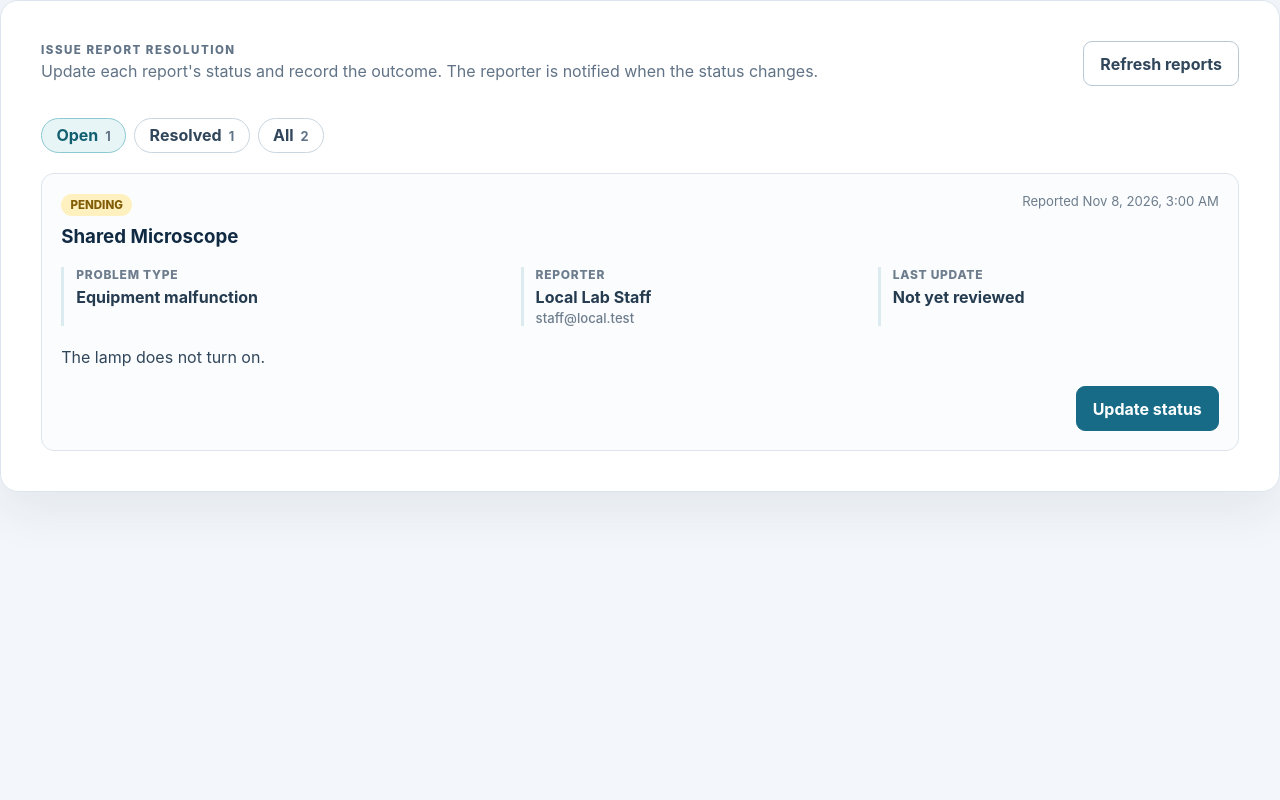
Test: IssueReportReview › resolves a report with a note and tells the administrator the reporter was notified
Click the button with aria-label "update shared microscope report" at (1147, 409), box [1076,386,1219,431]
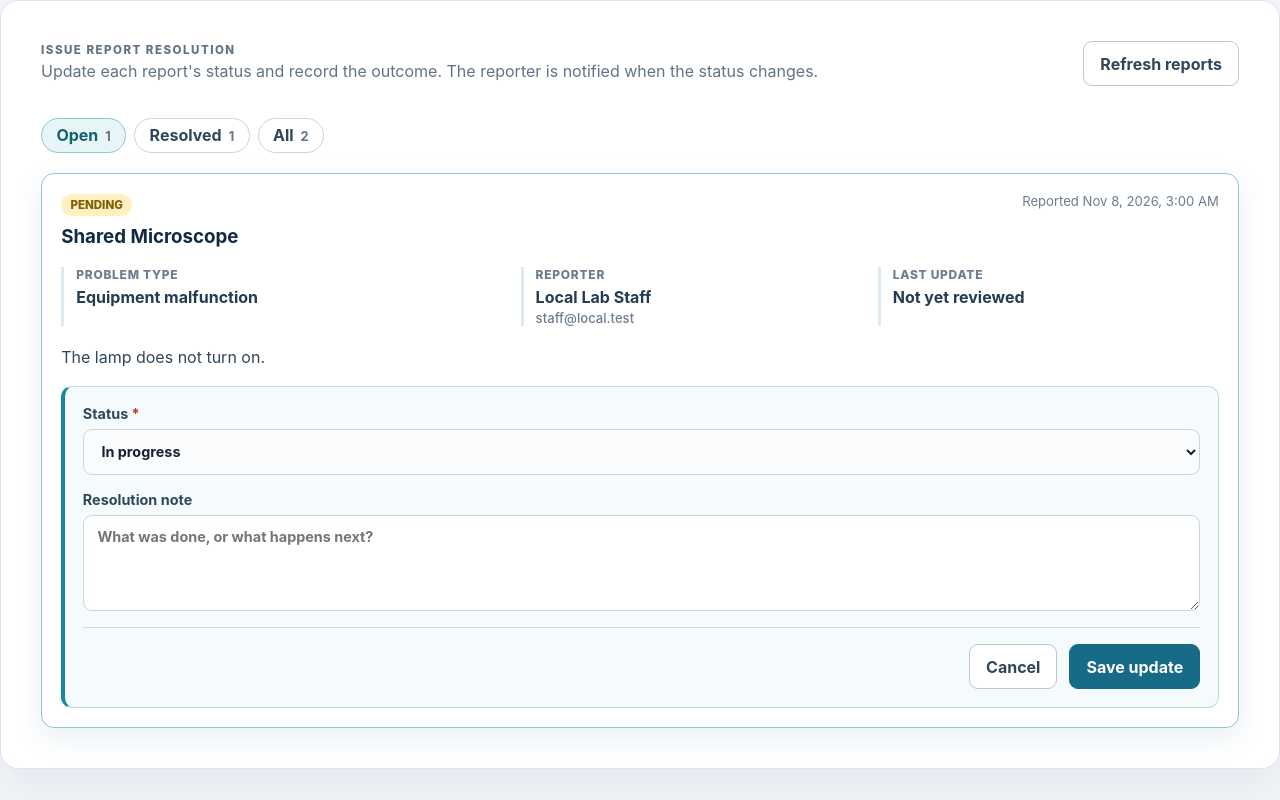
Select "Resolved" in the dropdown labelled "Status *" at (642, 452), box [83,429,1200,475]
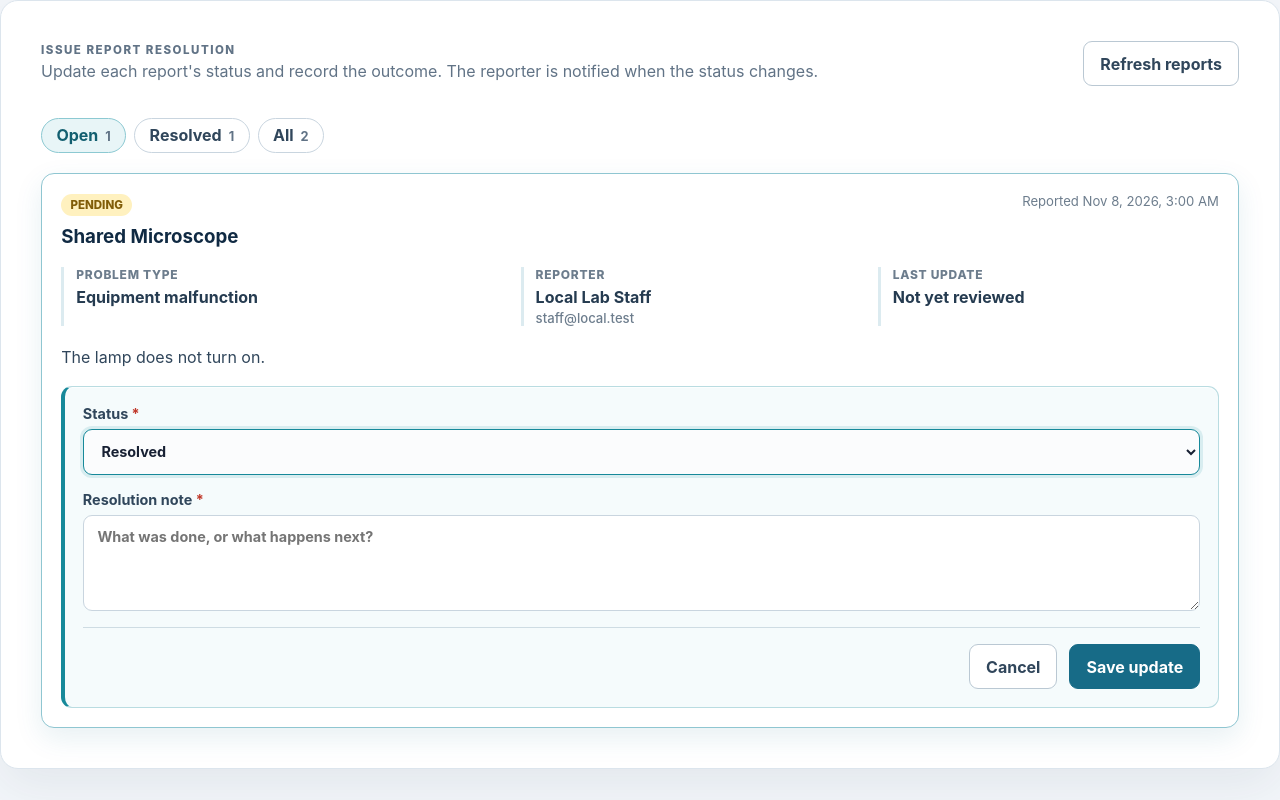
Type "  Replaced the lamp.  " into the text box labelled "Resolution note *" at (642, 563), box [83,515,1200,611]
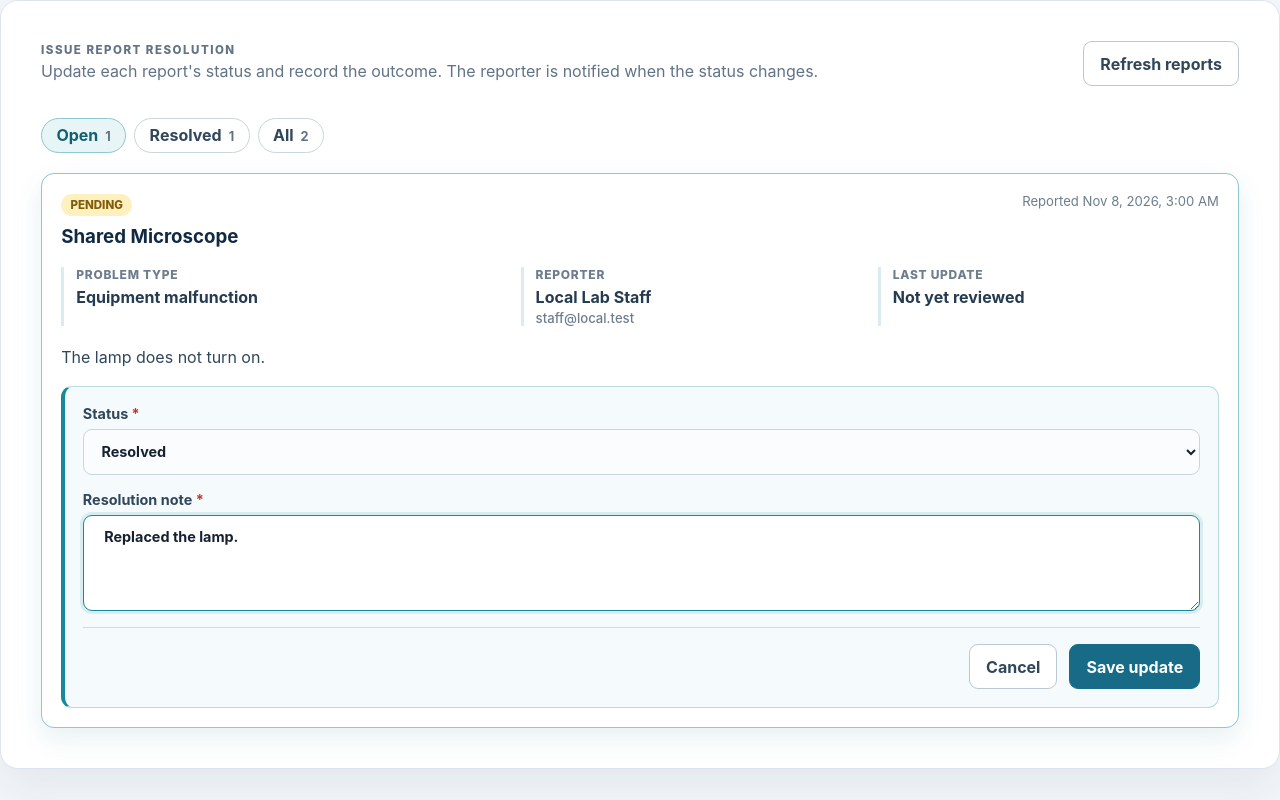
Click the button "Save update" at (1135, 666), box [1069,644,1200,689]
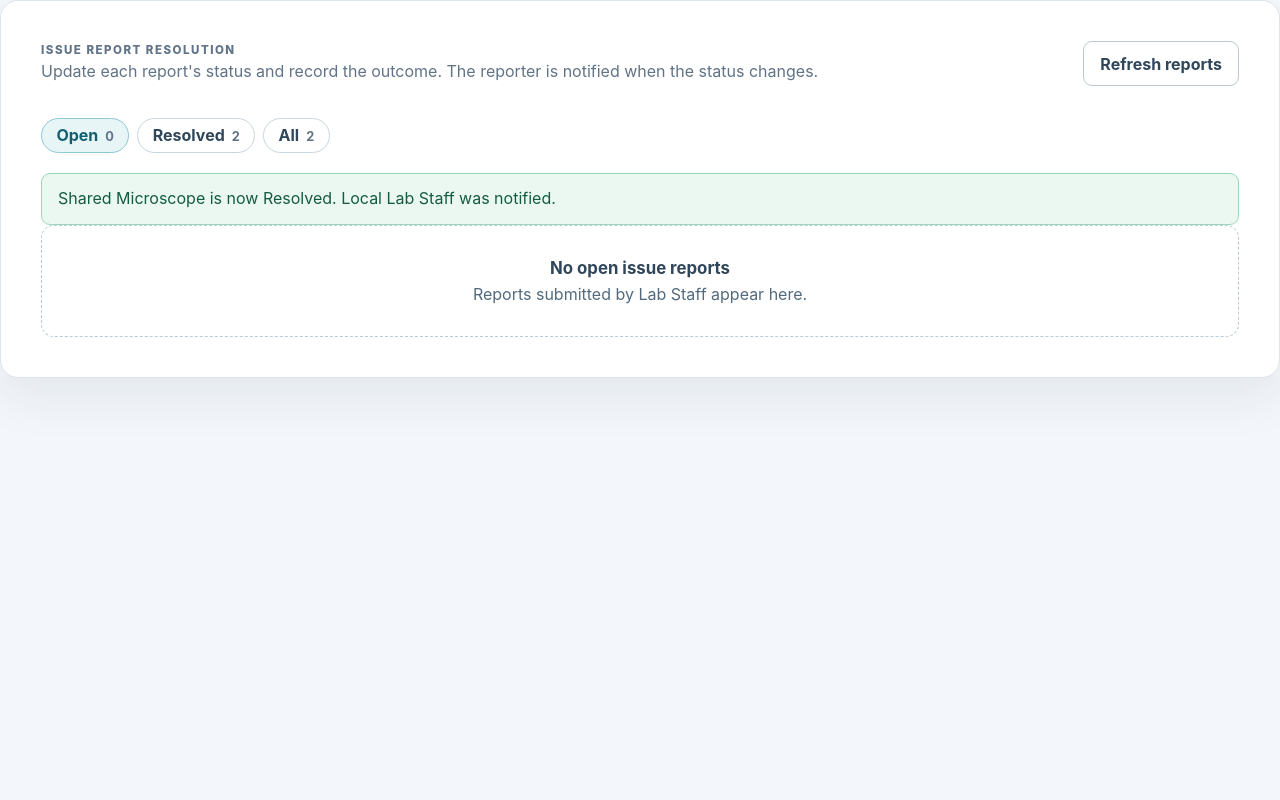
Result: the text "Shared Microscope is now Resolved. Local Lab Staff was notified." is shown at [41,173,1239,225]
Click the button "Resolved 2" at (196, 135), box [137,118,255,153]
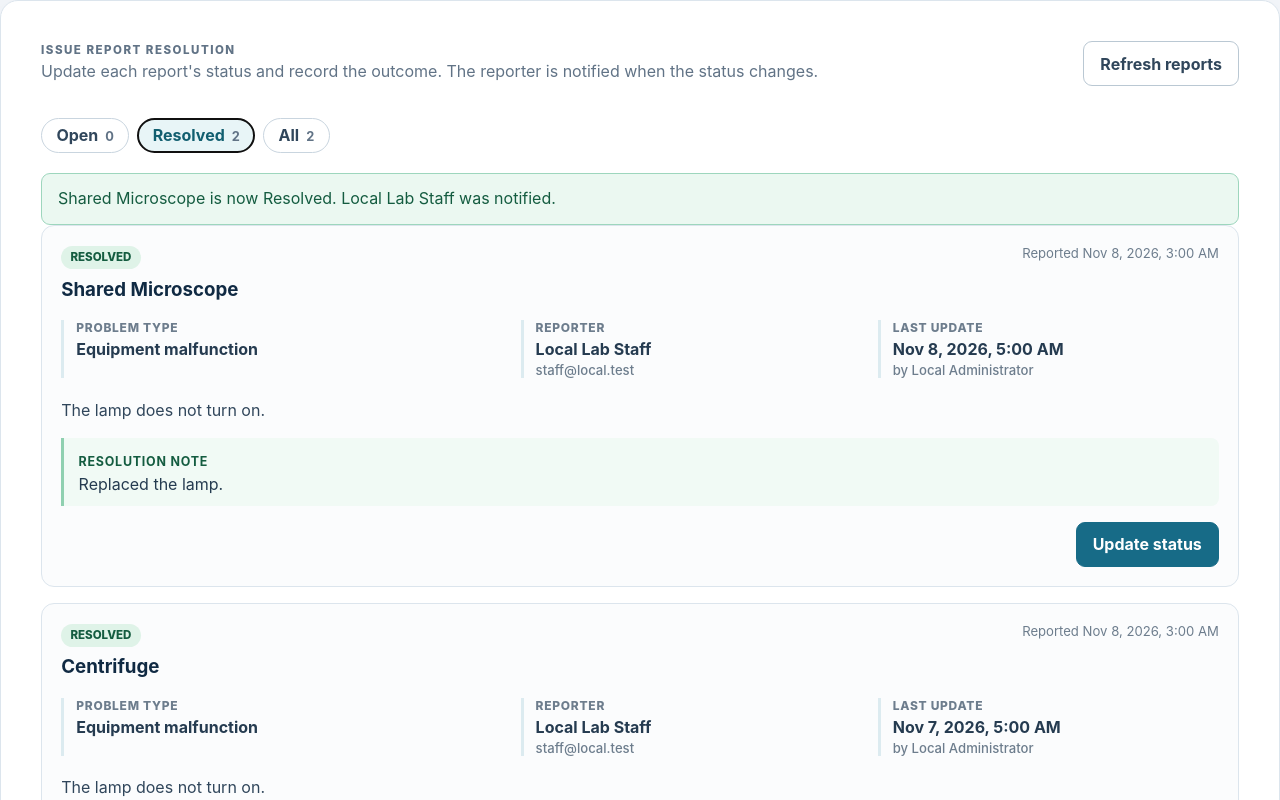
Result: the text "Replaced the lamp." is shown at [79,474,223,494]
